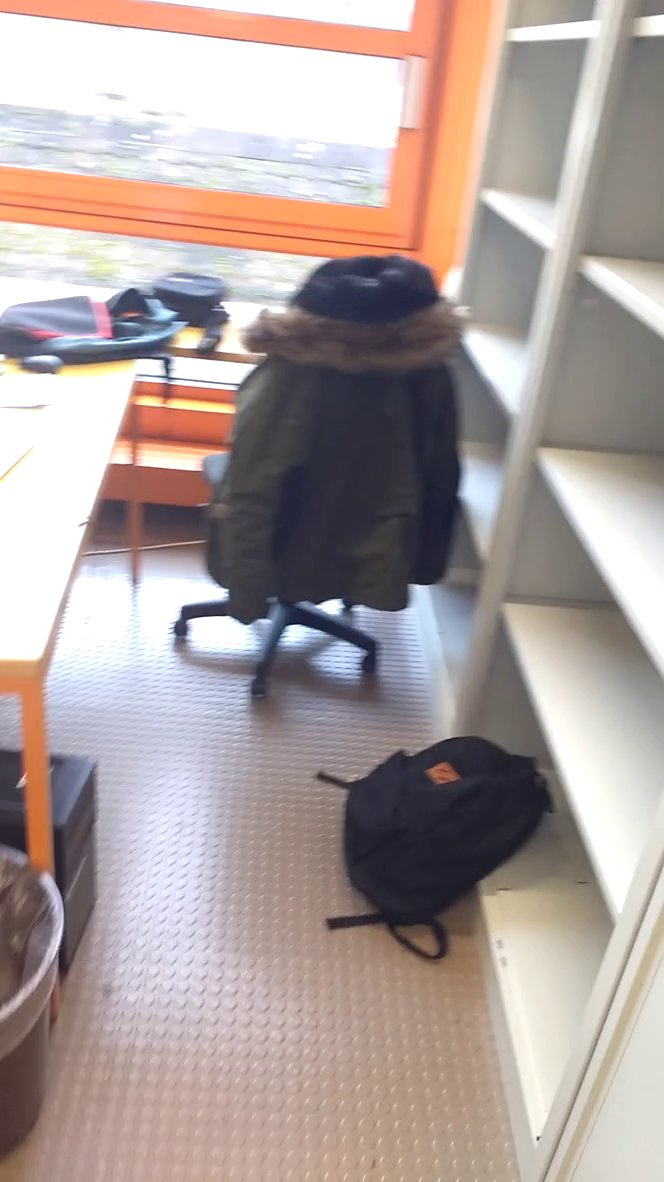bag: (318, 723, 559, 968)
